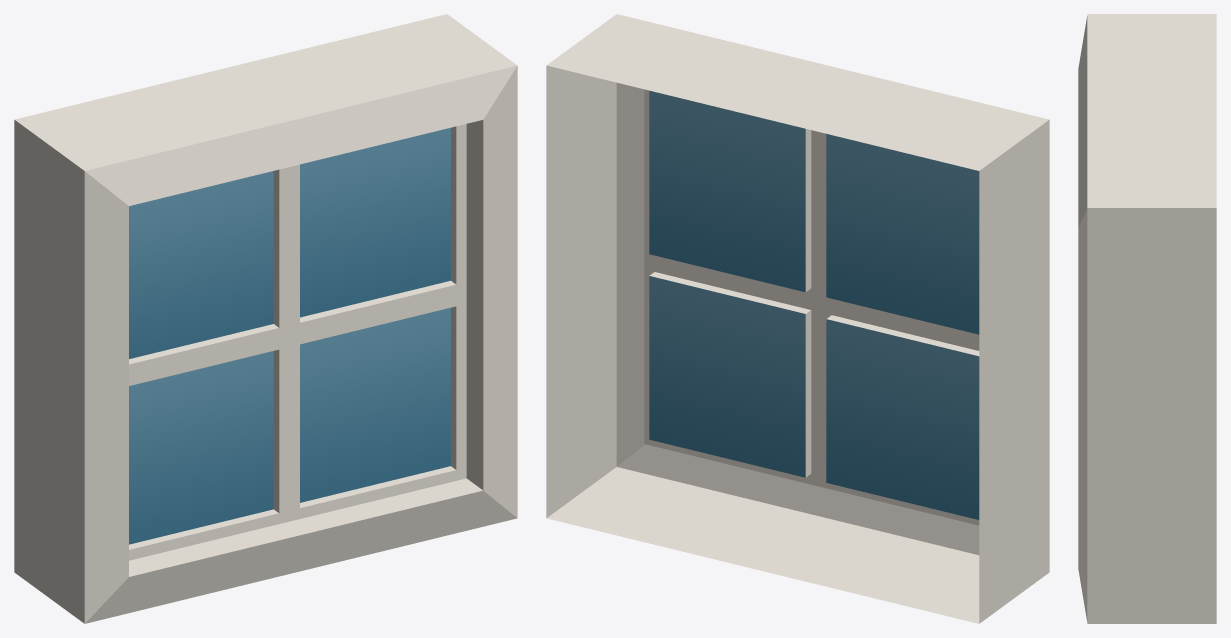
The model's file is Prop_Window01.fbx.
The picture shows the model from 3 angles, left to right: view 1: azimuth 30°, elevation 25°; view 2: azimuth 150°, elevation 25°; view 3: azimuth 270°, elevation 25°; orthographic projection. The views are drawn at different scales.
Visible parts, largest first — view 1: Prop_Window01; view 2: Prop_Window01; view 3: Prop_Window01.
Part boxes in pixels (x1,y1,x2,y2): Prop_Window01: (14, 14, 517, 623); Prop_Window01: (546, 14, 1049, 623); Prop_Window01: (1078, 14, 1216, 623).
Bounding box in the file's own units: 106 × 106 × 31.89.
